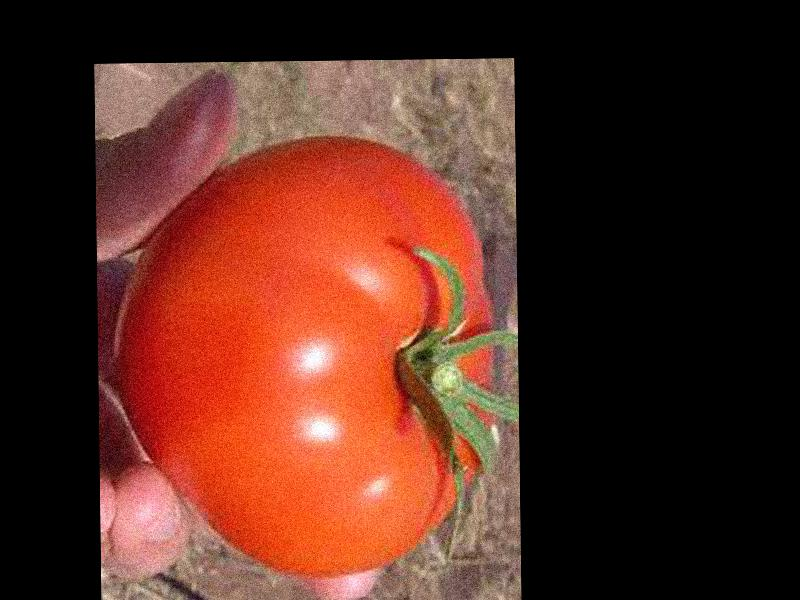Tomato: (116, 141, 494, 578)
